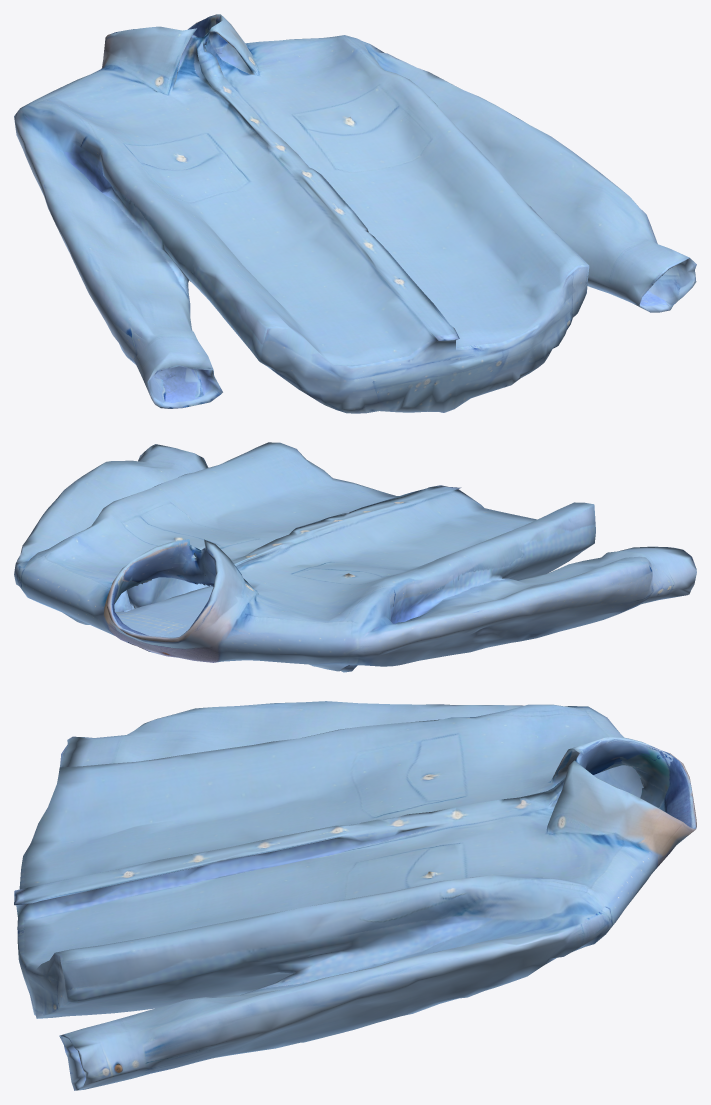
The model's file is BlueShirtFlat2.fbx.
The picture shows the model from 3 angles, top to bottom: view 1: azimuth 30°, elevation 25°; view 2: azimuth 150°, elevation 25°; view 3: azimuth 270°, elevation 25°; orthographic projection. The views are drawn at different scales.
Parts seen in each view (by area): view 1: temp.001; view 2: temp.001; view 3: temp.001.
Boxes of the visible parts, left/top/right/bottom form: temp.001: left=14, top=14, right=696, bottom=413; temp.001: left=14, top=442, right=696, bottom=672; temp.001: left=14, top=701, right=696, bottom=1090.
Bounding box in the file's own units: 292 × 107 × 278.
1 material, 1 textured.
